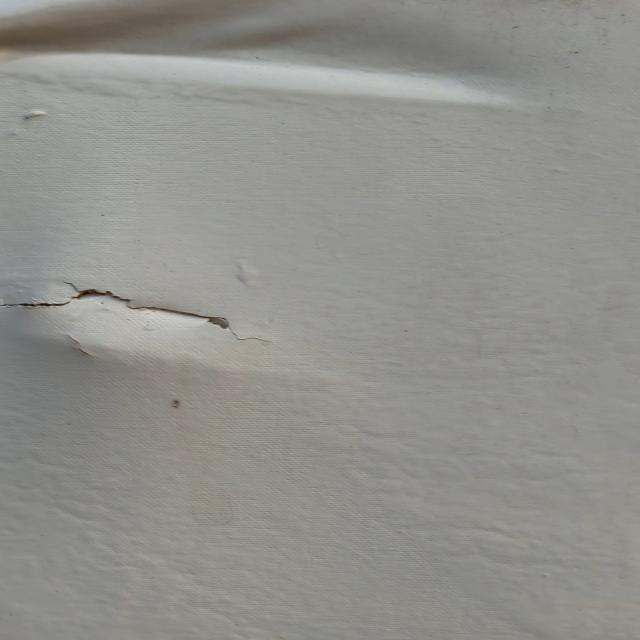Dents or Deformation: (1, 1, 556, 118)
Scratches: (1, 262, 303, 382)
